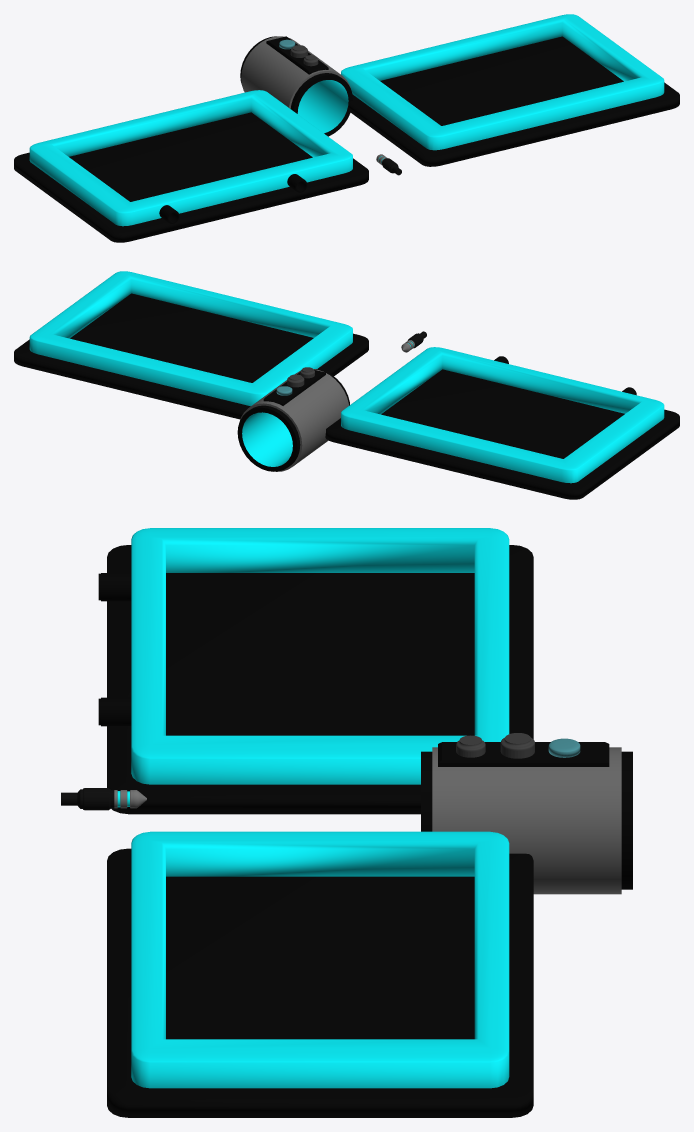
Rendered from tablet1.fbx.
The picture shows the model from 3 angles, top to bottom: view 1: azimuth 30°, elevation 25°; view 2: azimuth 150°, elevation 25°; view 3: azimuth 270°, elevation 25°; orthographic projection. The views are drawn at different scales.
Visible parts, largest first — view 1: rightsidetablet, leftsidetablet, WristWatch; view 2: rightsidetablet, leftsidetablet, WristWatch; view 3: leftsidetablet, rightsidetablet, WristWatch, Plug, Input2, Input1.
Part boxes in pixels (x1,y1,x2,y2): rightsidetablet: [14, 90, 368, 242]; leftsidetablet: [341, 14, 679, 166]; WristWatch: [240, 36, 352, 136]; rightsidetablet: [325, 347, 679, 499]; leftsidetablet: [14, 271, 368, 419]; WristWatch: [237, 369, 349, 471]; leftsidetablet: [107, 831, 533, 1117]; rightsidetablet: [107, 528, 533, 814]; WristWatch: [421, 742, 632, 894]; Plug: [61, 788, 146, 810]; Input2: [98, 697, 131, 726]; Input1: [98, 573, 131, 601].
Size of the model in its own units: 15697 by 1974 by 6845.
